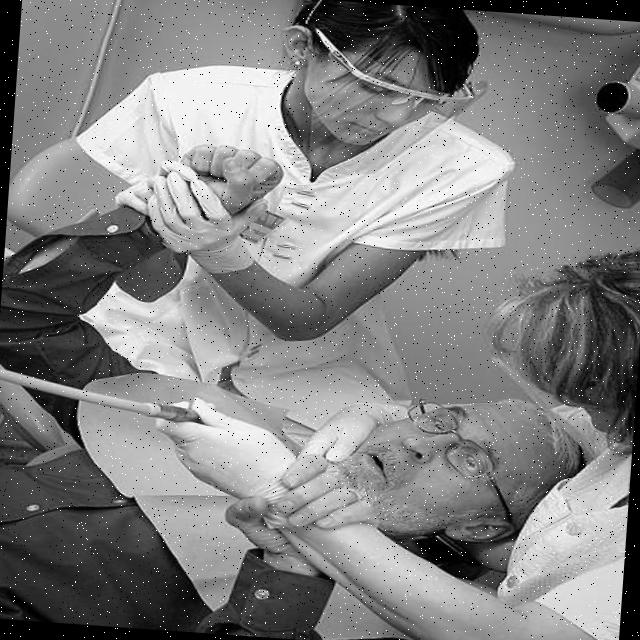Fear: (344, 398, 542, 518), (398, 378, 422, 381)
